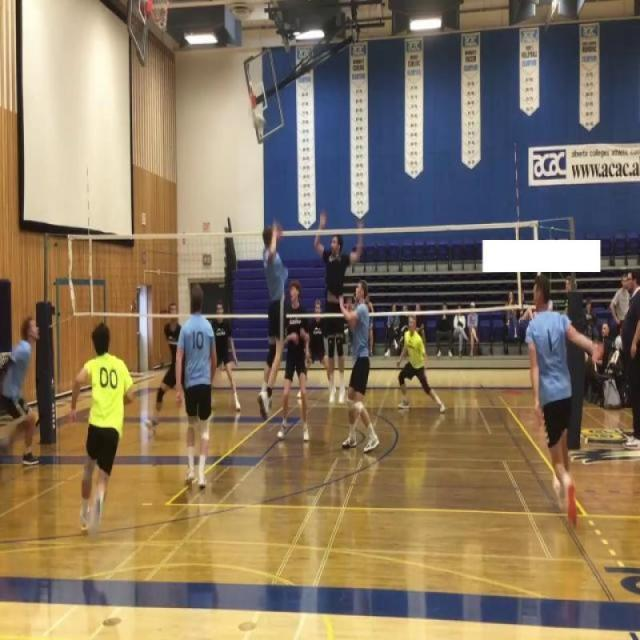volleyball: (254, 112, 266, 132)
